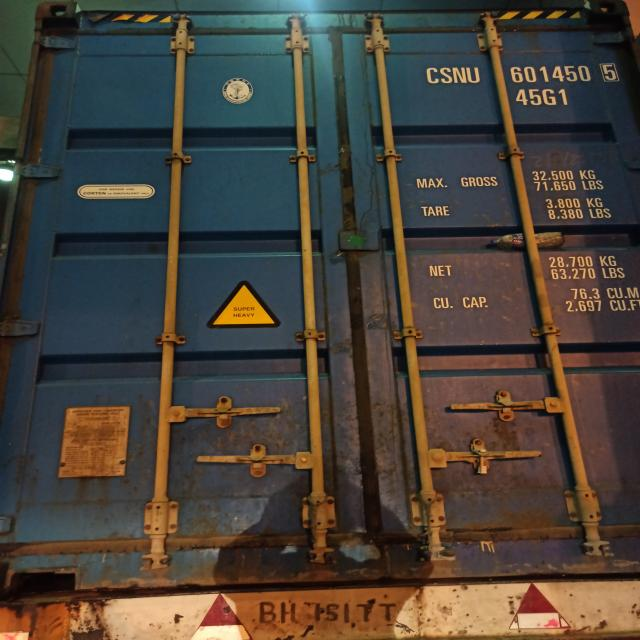seal: (474, 448, 488, 474)
